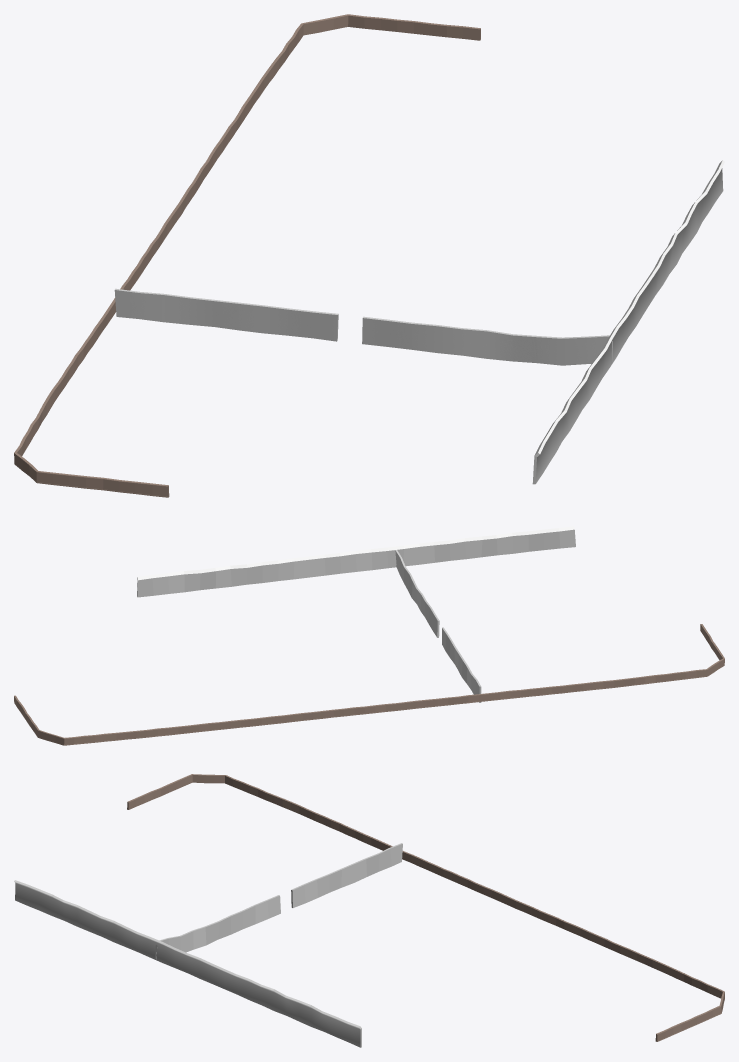
The model's file is sports_complex_fencing.dae.
3 renders of one model, top to bottom at view 1: azimuth 30°, elevation 25°; view 2: azimuth 150°, elevation 25°; view 3: azimuth 270°, elevation 25°, orthographic. The views are drawn at different scales.
Parts seen in each view (by area): view 1: sports_fencing_a2000, Colmesh-1; view 2: Colmesh-1, sports_fencing_a2000; view 3: Colmesh-1, sports_fencing_a2000.
Part boxes in pixels (x1,y1,x2,y2): sports_fencing_a2000: [14, 25, 723, 497]; Colmesh-1: [14, 14, 724, 496]; Colmesh-1: [14, 526, 724, 738]; sports_fencing_a2000: [14, 659, 724, 745]; Colmesh-1: [14, 774, 724, 1047]; sports_fencing_a2000: [15, 774, 724, 1047].
Size of the model in its own units: 127 by 143 by 6.09.
